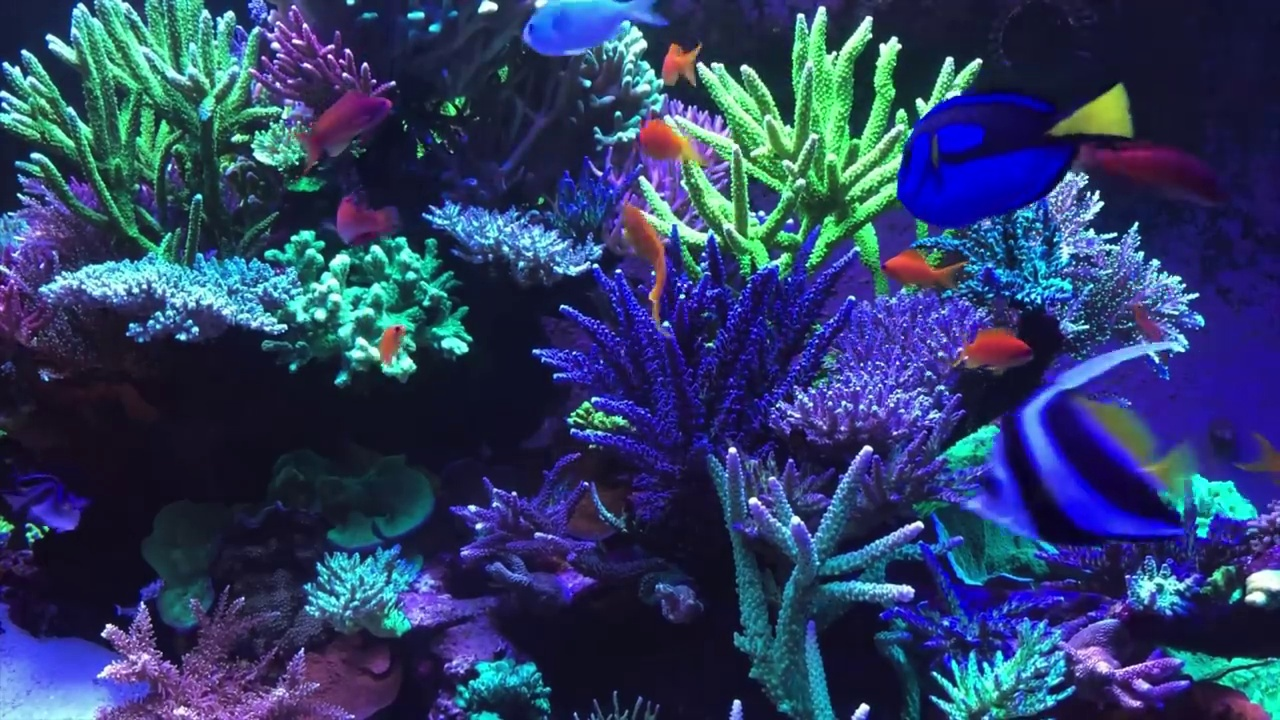fish: (968, 337, 1198, 549), (898, 80, 1136, 234), (1080, 140, 1233, 215), (521, 1, 673, 59), (295, 90, 396, 175), (617, 202, 671, 323), (879, 248, 972, 291), (639, 116, 709, 168), (334, 192, 402, 245), (951, 328, 1035, 370), (1233, 433, 1280, 486), (660, 36, 705, 90), (376, 324, 404, 370)
